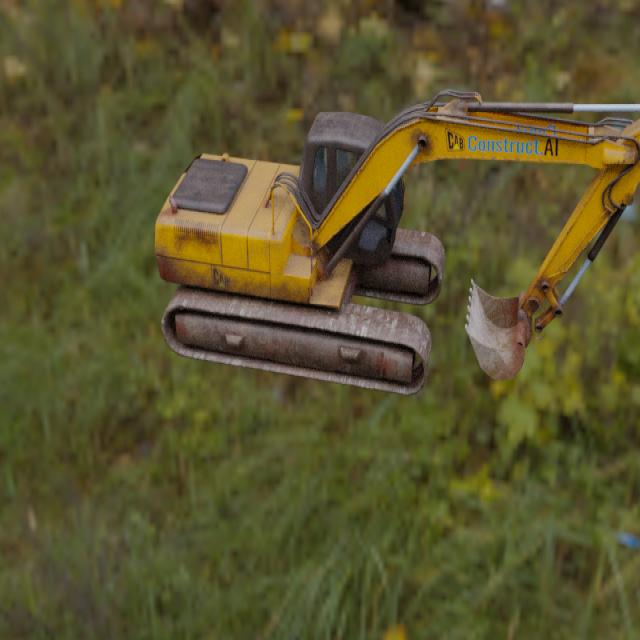excavator: (154, 88, 640, 396)
